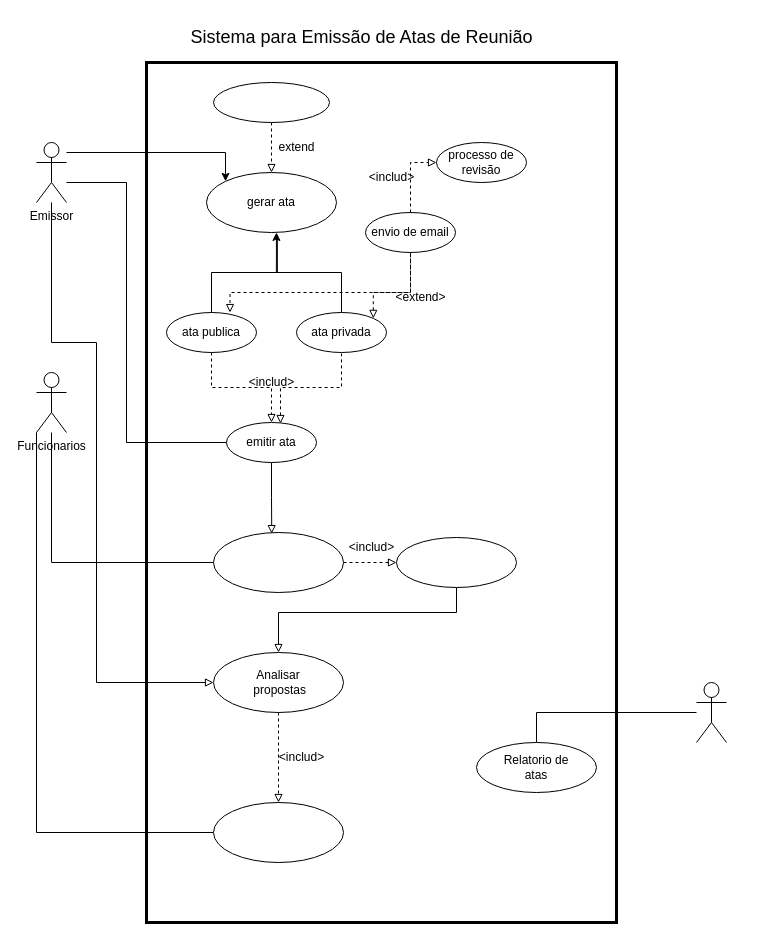
Image size: 767x941. Some labels were removed from this diagram. The shapes that lost their labels are listed below. From the top down, each one's centre as x and y in pixels, then its label:
point (271, 102): incluir pessoa externa
point (278, 562): Revisão de sugestoes
point (456, 562): Processo de conclusão
point (711, 712): Administração
point (278, 832): ata emitida
